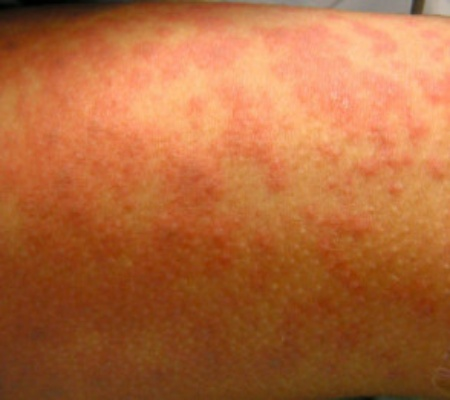SJS-TEN: (0, 16, 450, 374)
